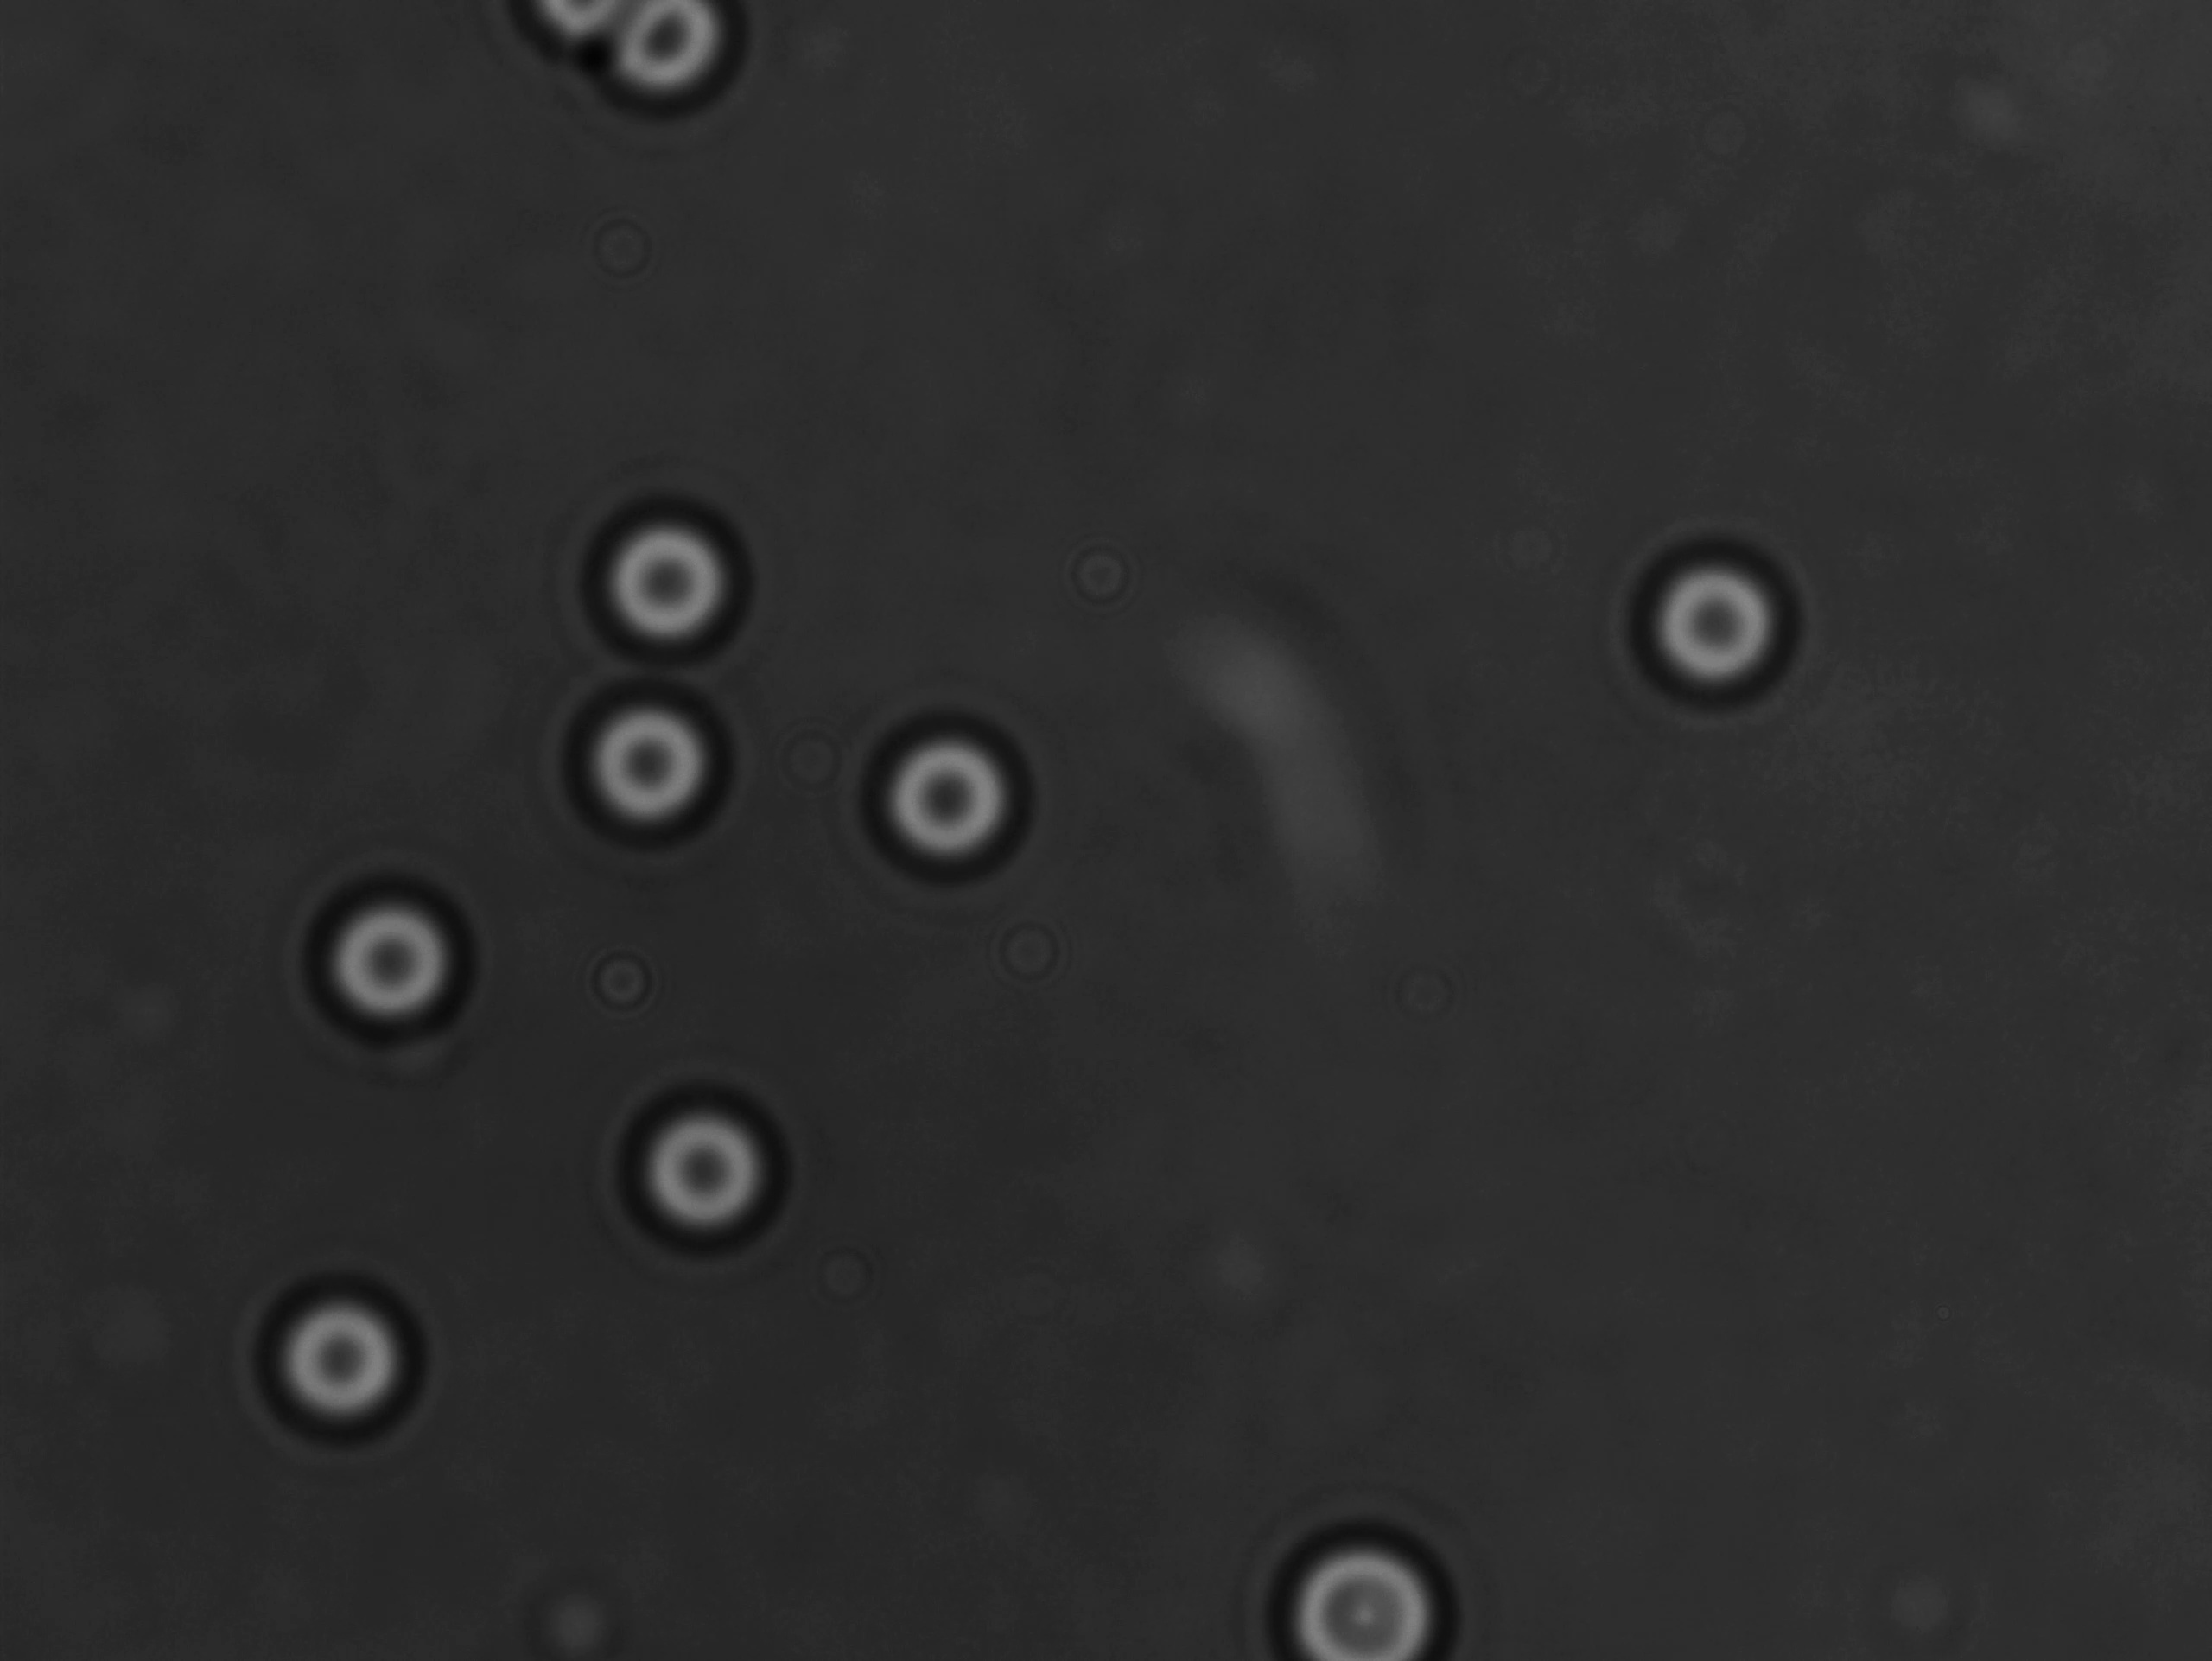depth:80: (277, 857, 499, 1075), (253, 1265, 461, 1473), (1244, 1504, 1511, 1661), (530, 647, 731, 851), (550, 478, 750, 675), (846, 712, 1041, 904), (598, 1083, 792, 1265), (1621, 544, 1818, 721)
